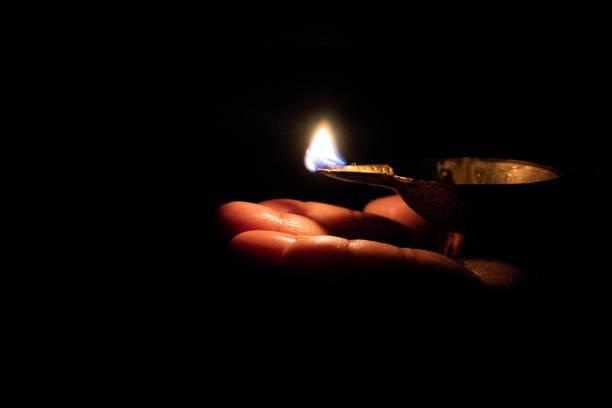Fire: (301, 117, 350, 171)
